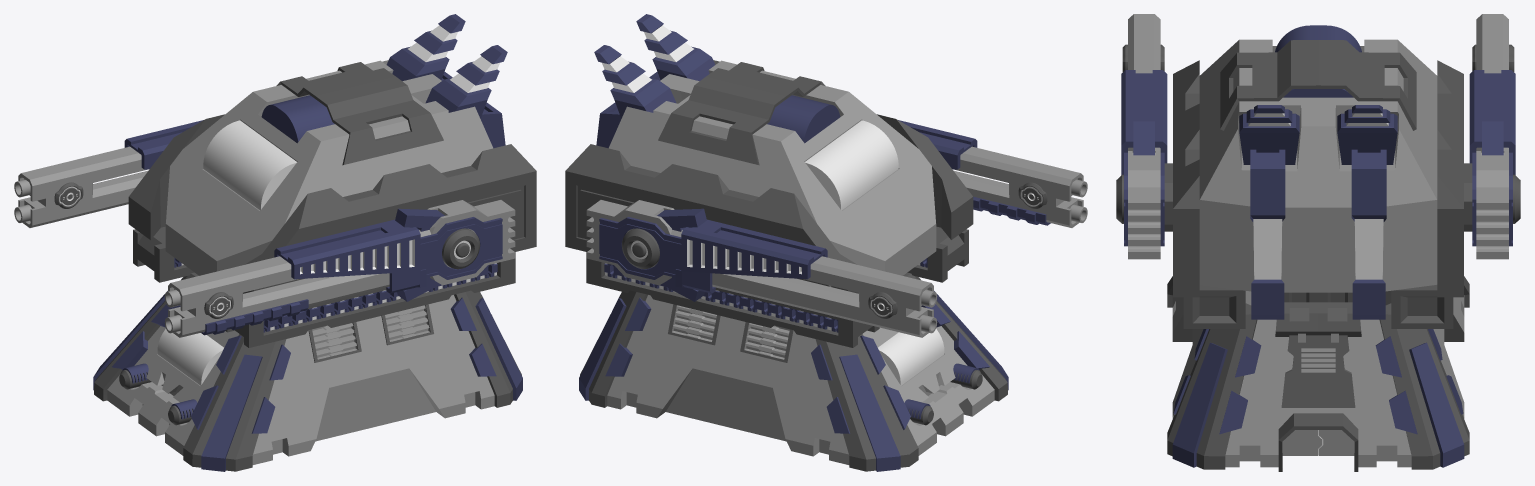
The model's file is machineGun1.fbx.
3 renders of one model, left to right at view 1: azimuth 30°, elevation 25°; view 2: azimuth 150°, elevation 25°; view 3: azimuth 270°, elevation 25°, orthographic. The views are drawn at different scales.
Visible parts, largest first — view 1: Base, Head, Cube.002, SidePlate, TopCover, BasePillars, Cube.014, MagazineHolder, BackWings, Vision, PillarMiddle, Cube.019 (+15 smaller); view 2: Base, Head, Cube.002, SidePlate, TopCover, BasePillars, Cube.014, MagazineHolder, BackWings, Vision, PillarMiddle, Cube.019 (+15 smaller); view 3: Head, Base, SidePlate, BackArms, Cube.002, TopCover, BasePillars, Cube.014, PillarMiddle, BackWings, MagazineHolder, BackAccessory.002 (+12 smaller).
Part boxes in pixels (x1,y1,x2,y2): Base: (107,295,494,464); Head: (165,60,492,275); Cube.002: (18,146,515,337); SidePlate: (128,114,536,293); TopCover: (276,62,443,165); BasePillars: (94,272,521,471); Cube.014: (124,120,420,279); MagazineHolder: (133,226,515,347); BackWings: (386,14,507,118); Vision: (203,120,296,210); PillarMiddle: (93,291,522,471); Cube.019: (420,217,502,279); Base: (607,295,994,464); Head: (609,60,936,275); Cube.002: (586,146,1083,337); SidePlate: (565,114,973,293); TopCover: (658,62,825,165); BasePillars: (580,272,1007,471); Cube.014: (681,120,977,279); MagazineHolder: (586,226,968,347); BackWings: (594,14,715,118); Vision: (805,120,898,210); PillarMiddle: (579,291,1008,471); Cube.019: (599,217,681,279); Head: (1199,39,1437,292); Base: (1172,291,1464,467); SidePlate: (1173,60,1463,297); BackArms: (1250,149,1386,319); Cube.002: (1128,14,1508,259); TopCover: (1220,40,1416,130); BasePillars: (1167,276,1469,469); Cube.014: (1121,70,1515,174); PillarMiddle: (1172,342,1464,467); BackWings: (1239,105,1397,164); MagazineHolder: (1183,285,1453,328); BackAccessory.002: (1281,335,1355,407).
Size of the model in its own units: 387 by 302 by 300.
